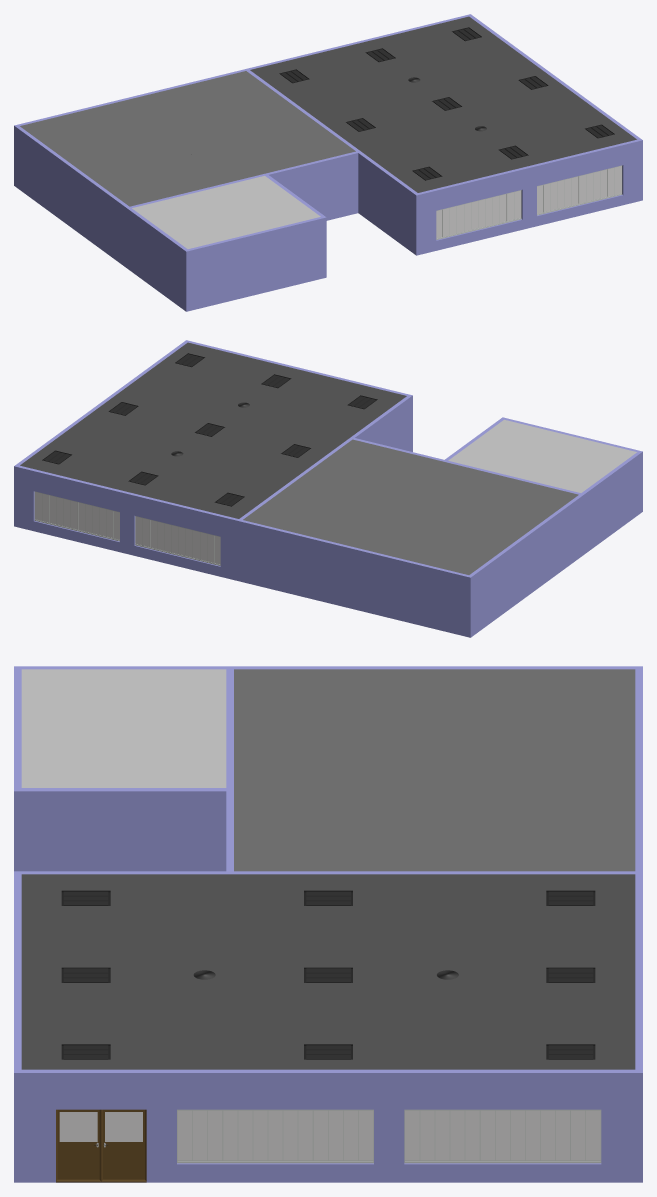
The model's file is sahne.fbx.
3 views of the same model, one above another, from view 1: azimuth 30°, elevation 25°; view 2: azimuth 150°, elevation 25°; view 3: azimuth 270°, elevation 25° (orthographic). The views are drawn at different scales.
Parts seen in each view (by area): view 1: Restaurant, Wındow_side.003, Wındow_side.002; view 2: Restaurant, Wındow_side.001, Wındow_side; view 3: Restaurant, W'ndow_front, W'ndow_front.001, Door.3, Door.2.
Part boxes in pixels (x1,y1,x2,y2): Restaurant: (14,14,642,311); Wındow_side.003: (436,190,521,239); Wındow_side.002: (537,165,622,215); Restaurant: (14,340,642,637); Wındow_side.001: (34,491,119,541); Wındow_side: (135,516,220,565); Restaurant: (14,666,642,1182); W'ndow_front: (404,1109,601,1163); W'ndow_front.001: (177,1109,373,1163); Door.3: (56,1109,101,1181); Door.2: (101,1109,146,1181).
Size of the model in its own units: 3176 by 402 by 2076.
